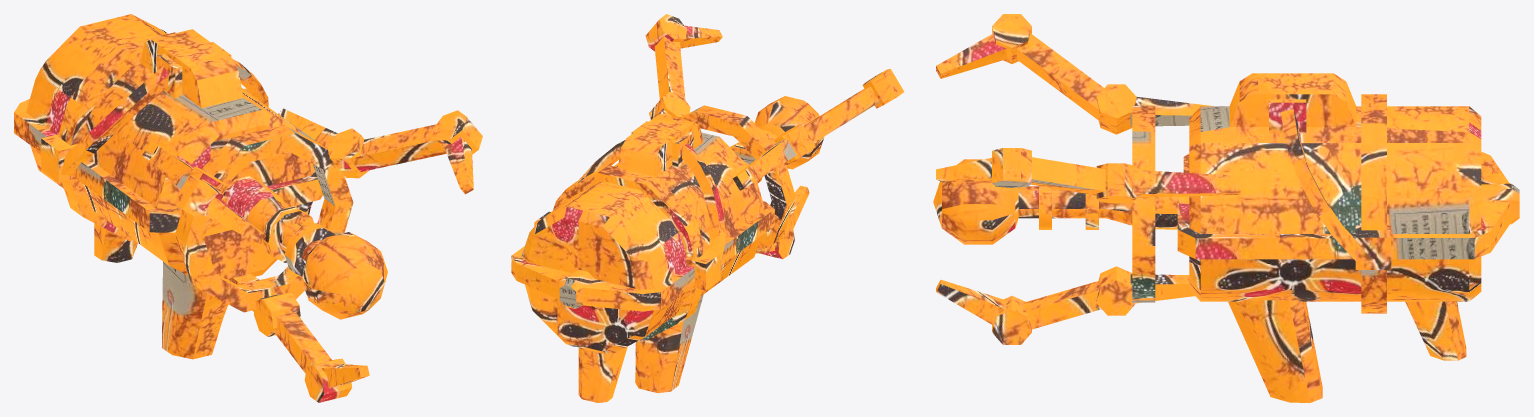
Rendered from Teslagun batik fix.fbx.
3 views of the same model, side by side, from view 1: azimuth 30°, elevation 25°; view 2: azimuth 150°, elevation 25°; view 3: azimuth 270°, elevation 25° (orthographic). The views are drawn at different scales.
Visible parts, largest first — view 1: Teslagun; view 2: Teslagun; view 3: Teslagun.
Boxes of the visible parts, bbox=[...] form: Teslagun: bbox=[14, 14, 482, 402]; Teslagun: bbox=[511, 14, 904, 402]; Teslagun: bbox=[933, 14, 1519, 402].
Bounding box in the file's own units: 24.29 × 23.43 × 40.01.
